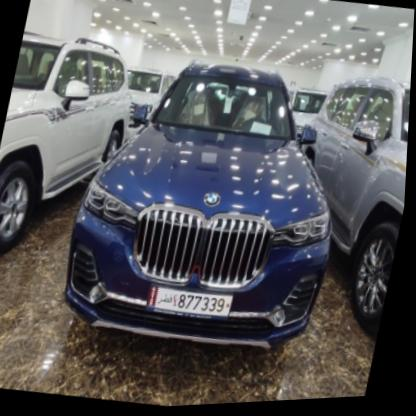np: (146, 279, 237, 325)
